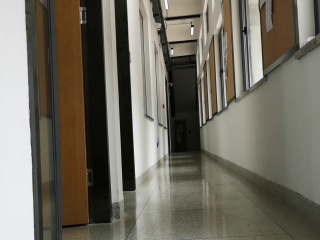room: (22, 2, 112, 235)
